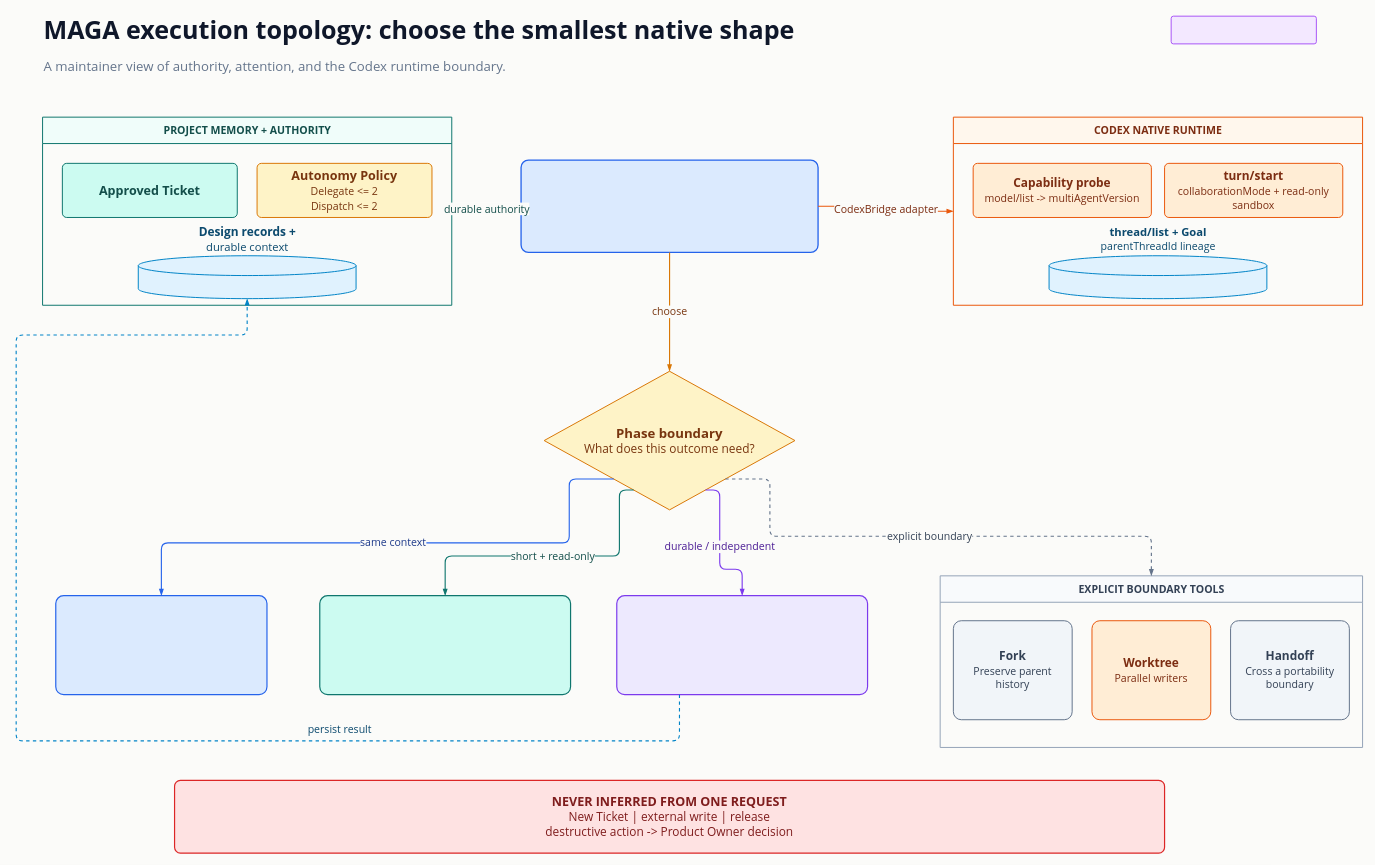
Image size: 1375x865. Some labels were removed from this diagram. Here are the shapes that lost their labels. From the top down, the centre of each, then its label:
the point at 1243,29: MAINTAINER VIEW
the point at 669,206: Project Lead Product language + routing
the point at 161,645: Continue Coupled reasoning Current task
the point at 445,645: Native subagent Delegate <= 2 Read-only, ephemeral
the point at 742,645: Named worker Dispatch <= 2 Durable artifact or commit
